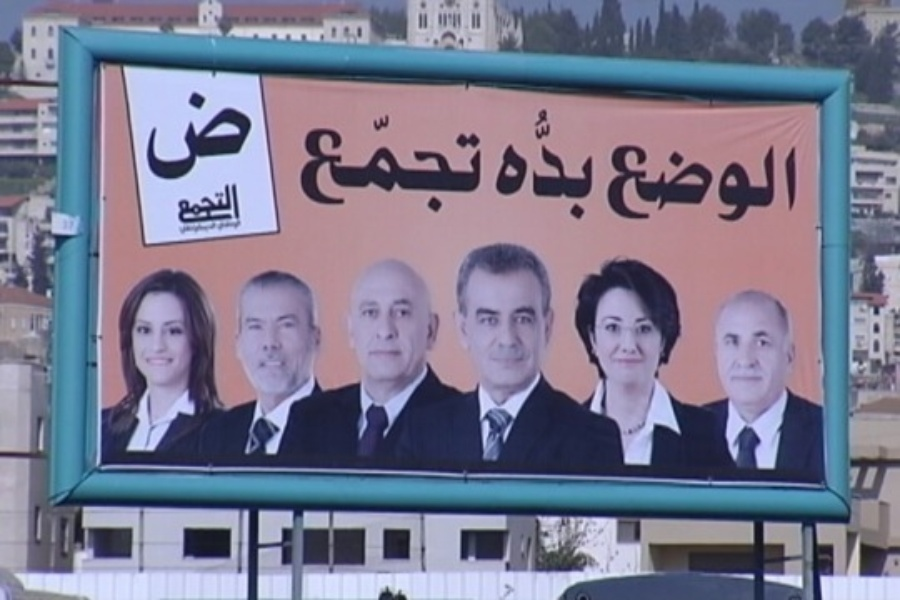text: (497, 109, 512, 220), (513, 109, 528, 220), (529, 109, 544, 220), (545, 109, 560, 220), (561, 109, 576, 220), (577, 109, 592, 220), (161, 79, 176, 187), (177, 79, 192, 187), (193, 79, 208, 187), (209, 79, 224, 187), (225, 79, 240, 187), (241, 79, 256, 187), (305, 112, 320, 214), (321, 112, 336, 214), (337, 112, 352, 214), (353, 112, 368, 214), (369, 112, 384, 214), (385, 112, 400, 214), (401, 112, 416, 214), (417, 112, 432, 214), (433, 112, 448, 214), (449, 112, 464, 214), (465, 112, 480, 214), (147, 79, 160, 187), (609, 142, 624, 222), (625, 142, 640, 222), (641, 142, 656, 222), (657, 142, 672, 222), (673, 142, 688, 222), (689, 142, 704, 222), (705, 142, 720, 222), (721, 142, 736, 222), (737, 142, 752, 222), (753, 142, 768, 222), (769, 142, 784, 222), (785, 142, 799, 222), (225, 181, 241, 224), (177, 181, 192, 224), (193, 181, 208, 224), (209, 181, 224, 224), (299, 112, 304, 214), (593, 109, 597, 220), (604, 142, 608, 222), (481, 112, 484, 214), (177, 219, 192, 236), (193, 219, 208, 236), (209, 219, 224, 236), (225, 219, 240, 236), (494, 109, 496, 220), (65, 219, 76, 232), (241, 219, 245, 236), (62, 219, 64, 232)
